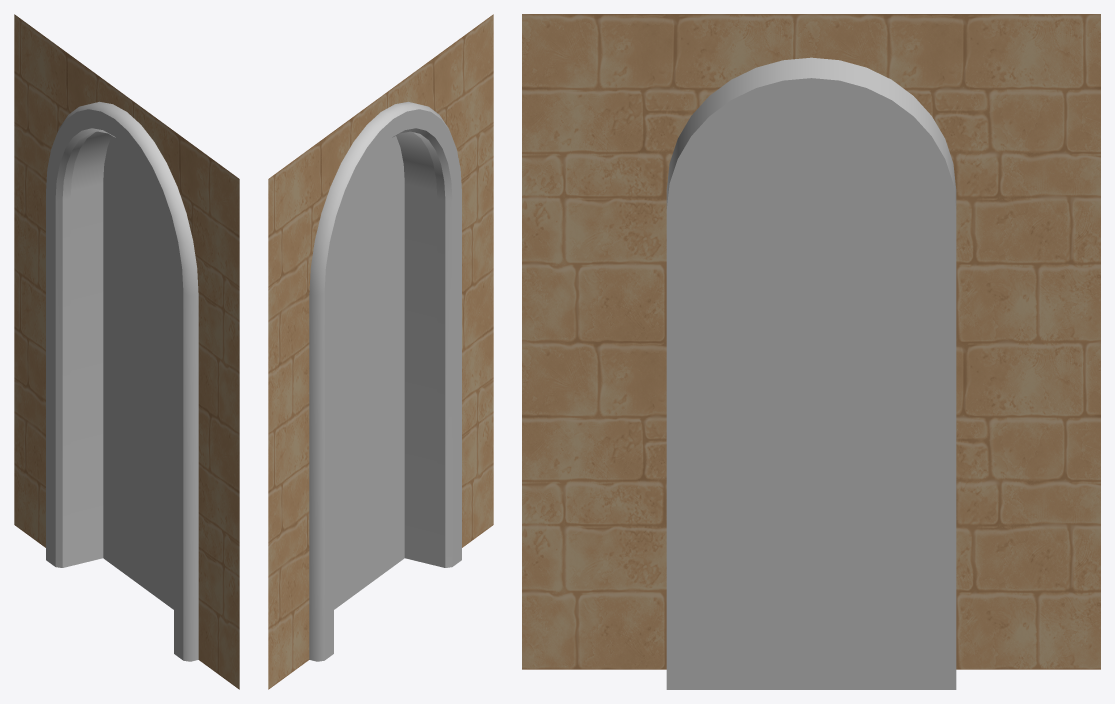
Rendered from SM_Wall_600x750.fbx.
The picture shows the model from 3 angles, left to right: view 1: azimuth 30°, elevation 25°; view 2: azimuth 150°, elevation 25°; view 3: azimuth 270°, elevation 25°; orthographic projection. The views are drawn at different scales.
Visible parts, largest first — view 1: SM_Wall_600x750_LOD0; view 2: SM_Wall_600x750_LOD0; view 3: SM_Wall_600x750_LOD0.
Boxes of the visible parts, x1,y1,x2,y2 form: SM_Wall_600x750_LOD0: (14, 14, 239, 689); SM_Wall_600x750_LOD0: (268, 14, 493, 689); SM_Wall_600x750_LOD0: (522, 14, 1100, 689).
Size of the model in its own units: 68.9 by 600 by 750.
